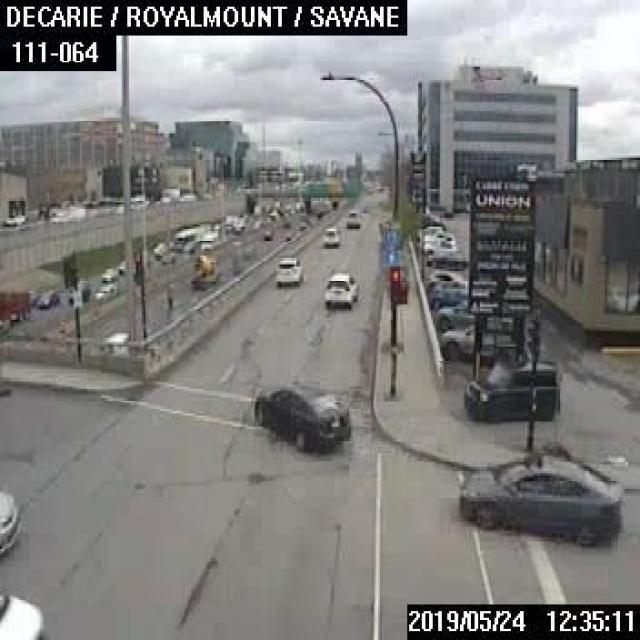vehicle: (460, 449, 627, 542), (249, 382, 349, 447), (464, 356, 560, 423), (436, 323, 526, 365), (0, 586, 44, 638), (0, 484, 20, 558), (320, 269, 356, 309), (434, 299, 478, 328), (429, 278, 467, 311), (171, 222, 209, 250), (190, 253, 218, 286), (271, 256, 302, 284), (425, 249, 466, 268), (424, 266, 466, 282), (66, 278, 90, 303), (90, 282, 116, 302), (36, 286, 58, 307), (422, 238, 454, 252), (322, 226, 342, 246), (197, 230, 215, 250), (344, 209, 360, 227), (152, 238, 168, 255), (100, 266, 117, 280), (262, 229, 271, 239)
